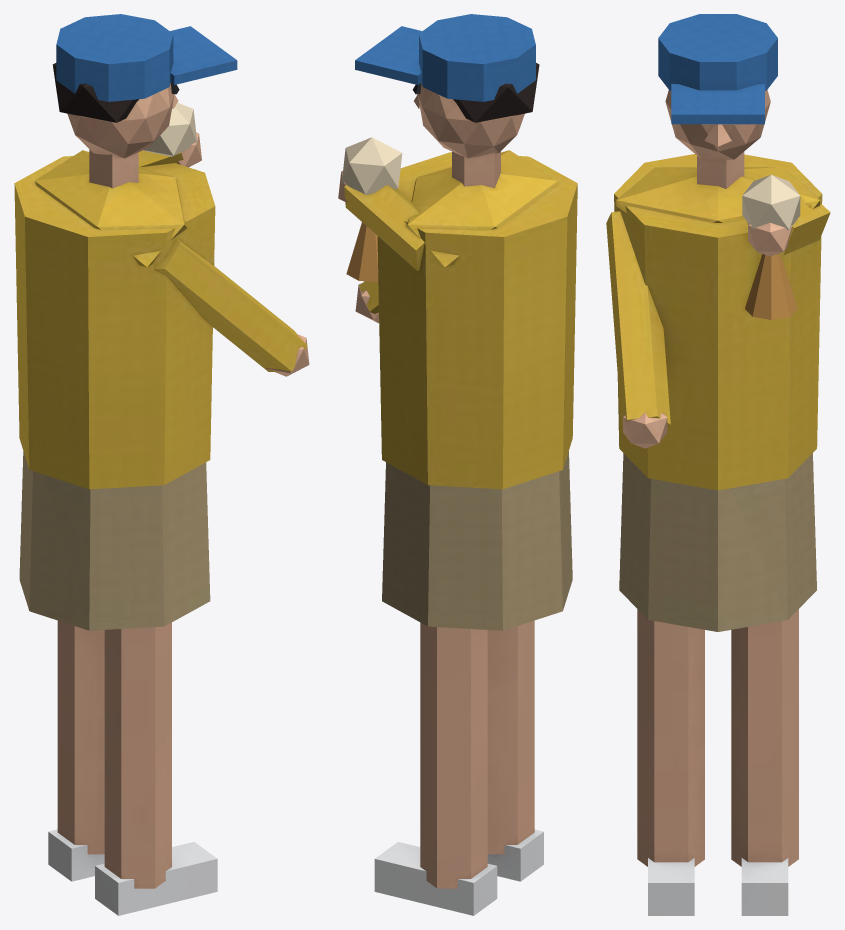
File: barn_glass_tex.glb
3 views of the same model, side by side, from view 1: azimuth 30°, elevation 25°; view 2: azimuth 150°, elevation 25°; view 3: azimuth 270°, elevation 25° (orthographic).
Visible parts, largest first — view 1: barn_glass; view 2: barn_glass; view 3: barn_glass.
Boxes of the visible parts, box(x1,y1,x2,y2) form: barn_glass: box(14, 14, 309, 915); barn_glass: box(338, 14, 577, 915); barn_glass: box(606, 14, 830, 915).
Bounding box in the file's own units: 0.3735 × 1.23 × 0.2954.
9 materials, 6 textured.
